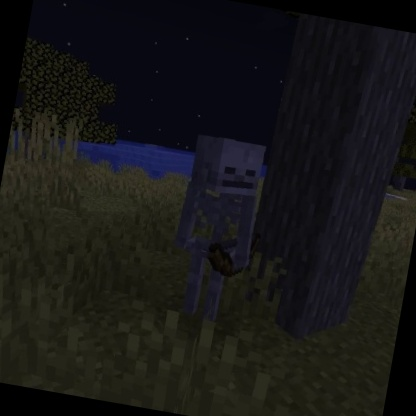skeleton: (157, 126, 281, 327)
